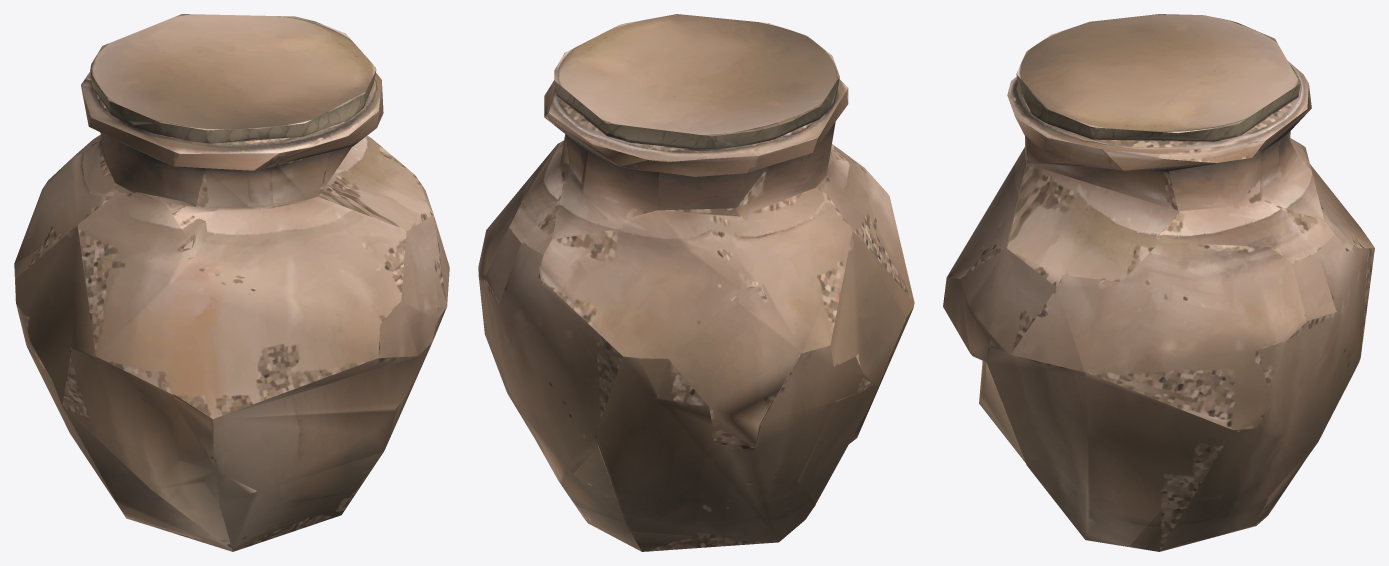
The model's file is turtle-mt-water-jar.glb.
3 views of the same model, side by side, from view 1: azimuth 30°, elevation 25°; view 2: azimuth 150°, elevation 25°; view 3: azimuth 270°, elevation 25° (orthographic).
Visible parts, largest first — view 1: Mesh_0; view 2: Mesh_0; view 3: Mesh_0.
Part boxes in pixels (x1=…): Mesh_0: x1=14, y1=14, x2=449, y2=551; Mesh_0: x1=478, y1=14, x2=914, y2=551; Mesh_0: x1=943, y1=14, x2=1374, y2=551.
Bounding box in the file's own units: 0.0436 × 0.05 × 0.0451.
1 material, 1 textured.
